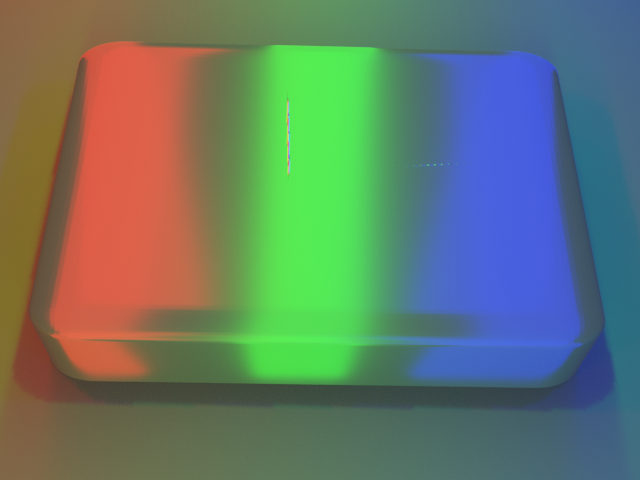scratch: (82, 22, 483, 238), (314, 76, 606, 242)
